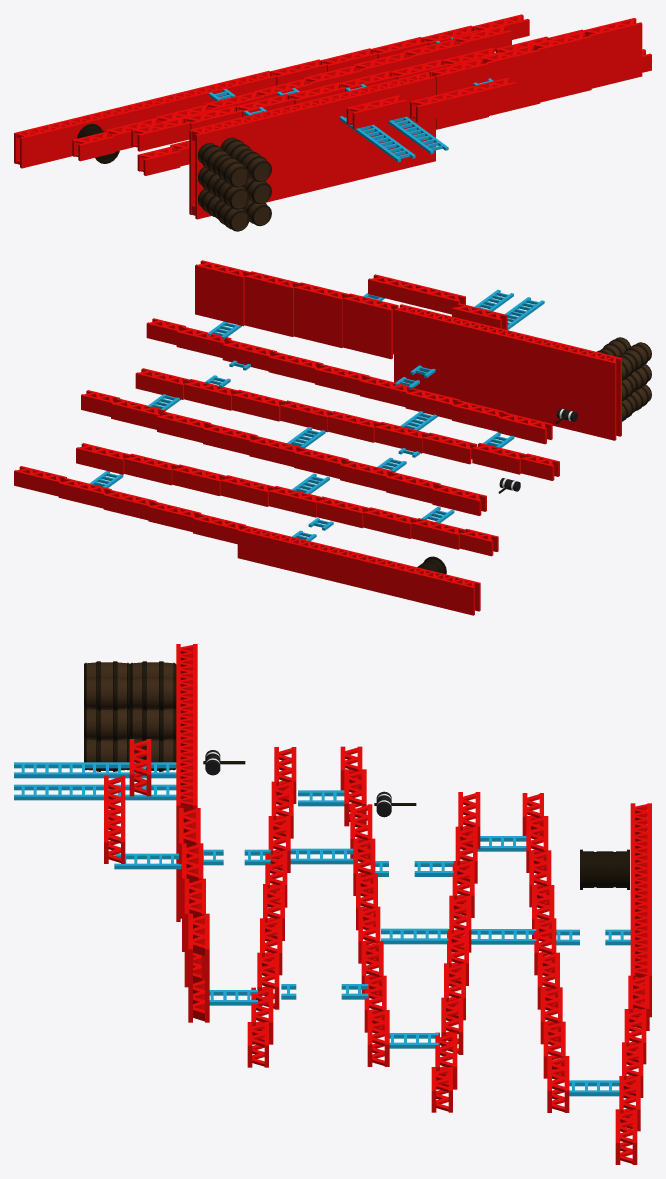
File: tentativa1.fbx
3 renders of one model, top to bottom at view 1: azimuth 30°, elevation 25°; view 2: azimuth 150°, elevation 25°; view 3: azimuth 270°, elevation 25°, orthographic. The views are drawn at different scales.
Parts seen in each view (by area): view 1: object_3, object_7, object_5, object_4; view 2: object_3, object_4, object_7, object_5; view 3: object_3, object_4, object_7, object_5.
Part boxes in pixels (bbox=[...]): object_3: bbox=[14, 14, 651, 219]; object_7: bbox=[198, 138, 270, 230]; object_5: bbox=[77, 123, 271, 231]; object_4: bbox=[208, 37, 493, 162]; object_3: bbox=[14, 260, 621, 615]; object_4: bbox=[89, 289, 544, 541]; object_7: bbox=[598, 338, 651, 420]; object_5: bbox=[417, 337, 651, 574]; object_3: bbox=[104, 644, 651, 1164]; object_4: bbox=[14, 762, 630, 1096]; object_7: bbox=[87, 662, 173, 770]; object_5: bbox=[84, 661, 629, 889].
Bounding box in the file's own units: 878 × 251 × 697.
